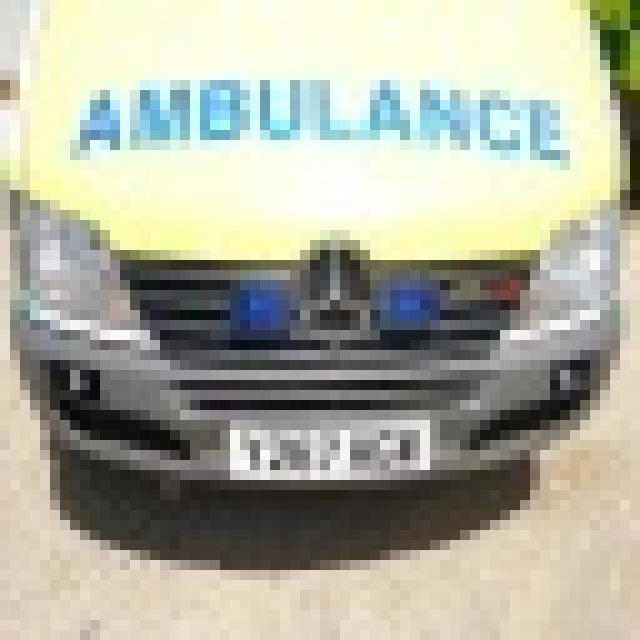Ambulance: (0, 0, 620, 500)
